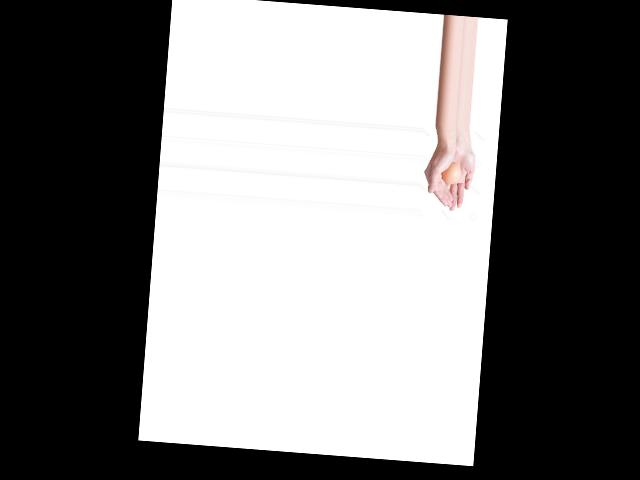egg: (441, 162, 460, 185)
